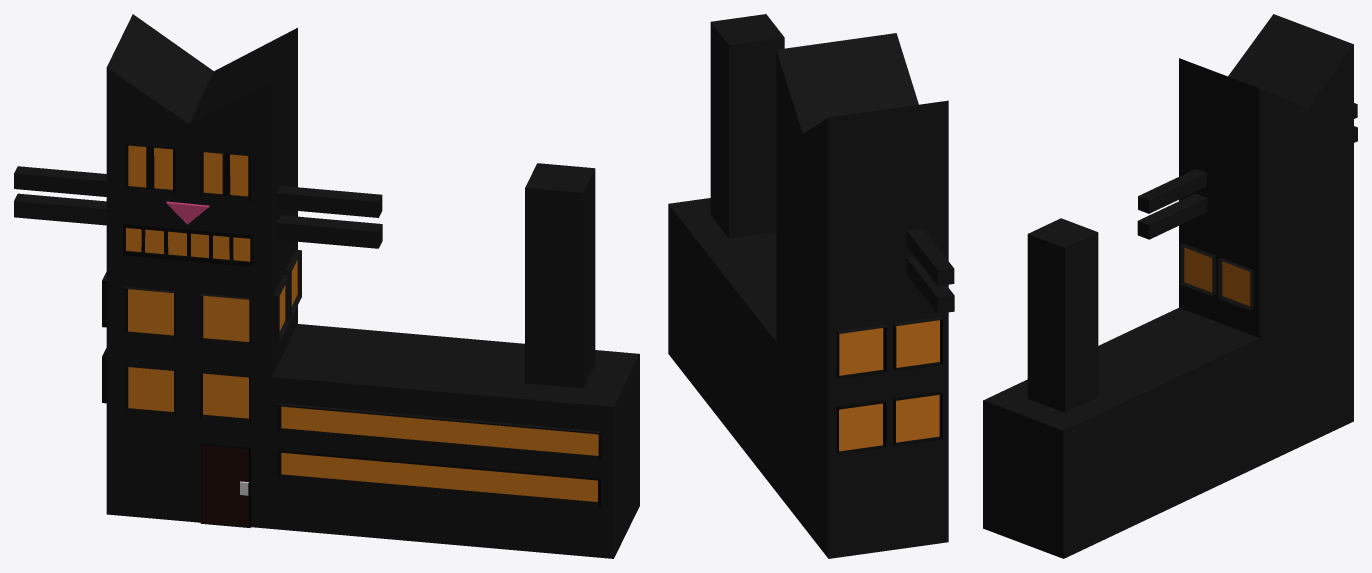
Rendered from Building3.FBX.
3 renders of one model, left to right at view 1: azimuth 30°, elevation 25°; view 2: azimuth 150°, elevation 25°; view 3: azimuth 270°, elevation 25°, orthographic. The views are drawn at different scales.
Visible parts, largest first — view 1: Cube; view 2: Cube; view 3: Cube.
Part boxes in pixels (x1,y1,x2,y2): Cube: [14, 14, 639, 558]; Cube: [668, 14, 954, 558]; Cube: [983, 14, 1357, 558].
Size of the model in its own units: 11998 by 11222 by 10092.
